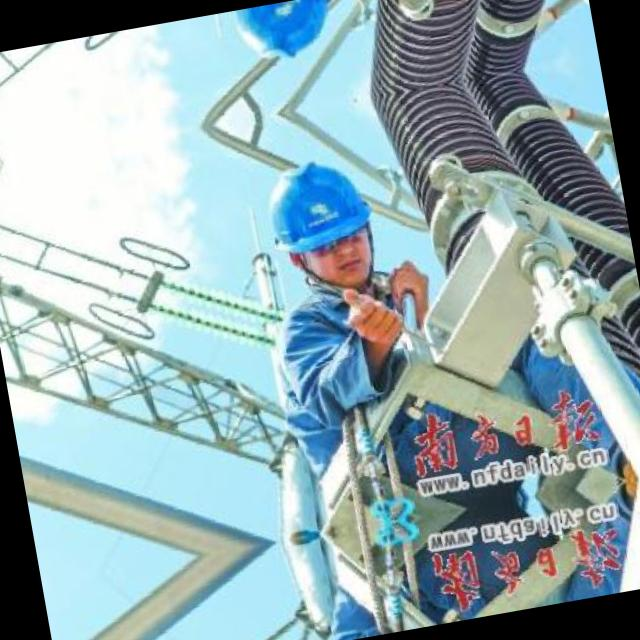helmet: (251, 140, 393, 311), (225, 0, 353, 75)
